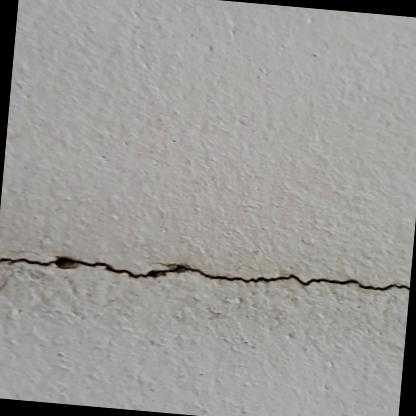crack: (0, 256, 410, 294)
